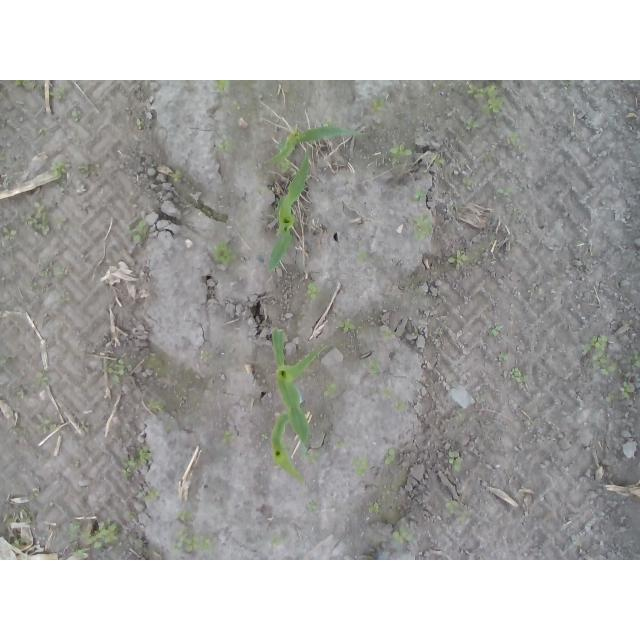Maize: (270, 327, 320, 450), (267, 152, 310, 271), (270, 124, 369, 161), (269, 411, 307, 486)
Weeds: (581, 334, 623, 377), (467, 81, 506, 113), (90, 517, 122, 551), (171, 528, 212, 554), (122, 447, 153, 481), (22, 201, 51, 236), (68, 520, 91, 561), (383, 144, 417, 169), (213, 240, 240, 269), (447, 250, 481, 272), (447, 499, 472, 525), (107, 358, 128, 385), (50, 160, 67, 193), (127, 214, 147, 242), (415, 215, 433, 241), (502, 132, 526, 150), (392, 527, 416, 545), (622, 368, 635, 401), (8, 506, 33, 523), (351, 455, 370, 477), (448, 448, 464, 472), (214, 139, 239, 154), (136, 489, 160, 504), (146, 399, 169, 414), (305, 281, 320, 302), (301, 448, 319, 465), (509, 367, 527, 383), (337, 319, 356, 334), (367, 357, 382, 376), (36, 419, 57, 432), (391, 399, 410, 413), (495, 188, 514, 201), (214, 81, 230, 96), (379, 326, 398, 338), (168, 169, 184, 183), (370, 98, 386, 112), (463, 116, 480, 129), (3, 227, 18, 241), (323, 383, 337, 398), (50, 86, 66, 99), (384, 448, 396, 465), (175, 511, 193, 522), (629, 351, 640, 369), (39, 263, 53, 277), (366, 502, 382, 514), (15, 80, 34, 90), (461, 175, 479, 185), (78, 420, 90, 435), (0, 353, 16, 364), (36, 372, 49, 385), (489, 324, 503, 336), (357, 249, 369, 263), (15, 386, 26, 401), (383, 389, 398, 400), (231, 96, 241, 112), (559, 80, 576, 89), (306, 500, 318, 512), (9, 537, 23, 547), (453, 409, 464, 421), (71, 110, 82, 122), (271, 535, 284, 545), (498, 351, 511, 361), (144, 351, 157, 361), (224, 432, 233, 445), (136, 118, 145, 131), (436, 158, 449, 167), (607, 391, 618, 401), (199, 351, 209, 362), (335, 439, 345, 449), (31, 489, 40, 500), (39, 128, 50, 137), (54, 216, 66, 224), (68, 460, 80, 468), (415, 192, 425, 201), (127, 510, 138, 518), (80, 165, 87, 176), (38, 507, 49, 513), (0, 150, 4, 162)
